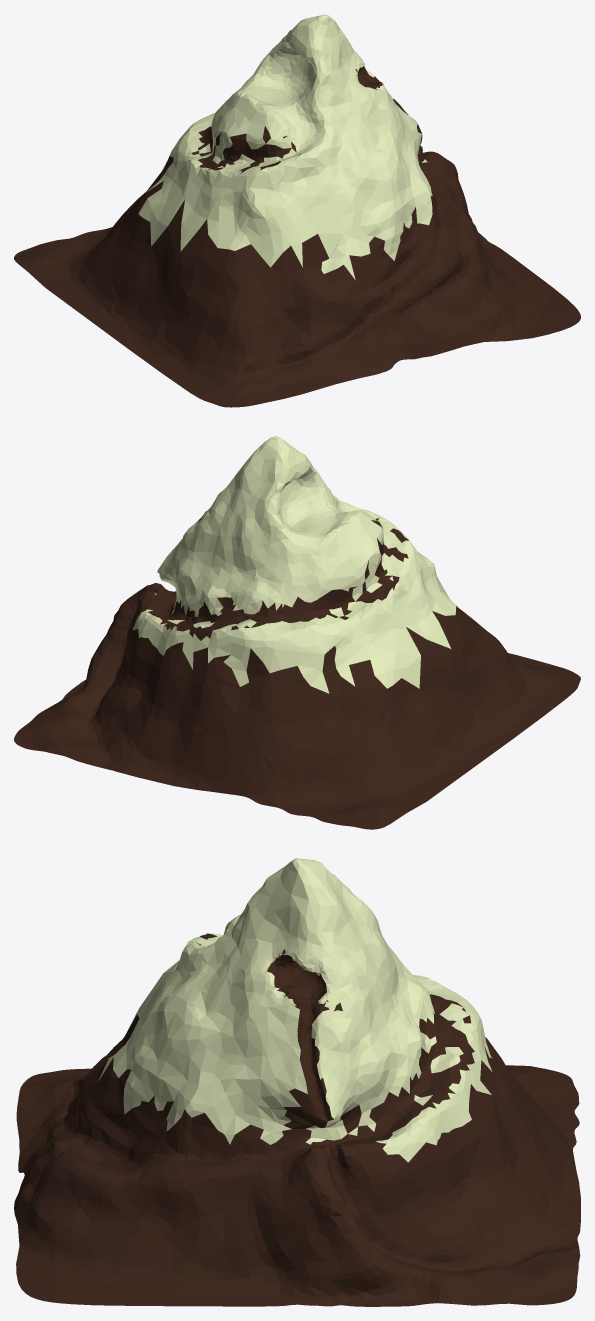
File: mountain.fbx
3 views of the same model, one above another, from view 1: azimuth 30°, elevation 25°; view 2: azimuth 150°, elevation 25°; view 3: azimuth 270°, elevation 25° (orthographic). The views are drawn at different scales.
Visible parts, largest first — view 1: Plane; view 2: Plane; view 3: Plane.
Part boxes in pixels (x1=…): Plane: x1=14, y1=14, x2=580, y2=407; Plane: x1=14, y1=436, x2=580, y2=829; Plane: x1=14, y1=858, x2=580, y2=1306.
Bounding box in the file's own units: 9957 × 6692 × 9969.
